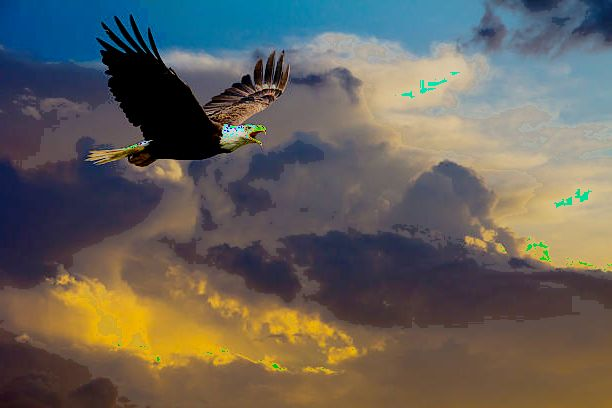Bird: (80, 9, 289, 169)
